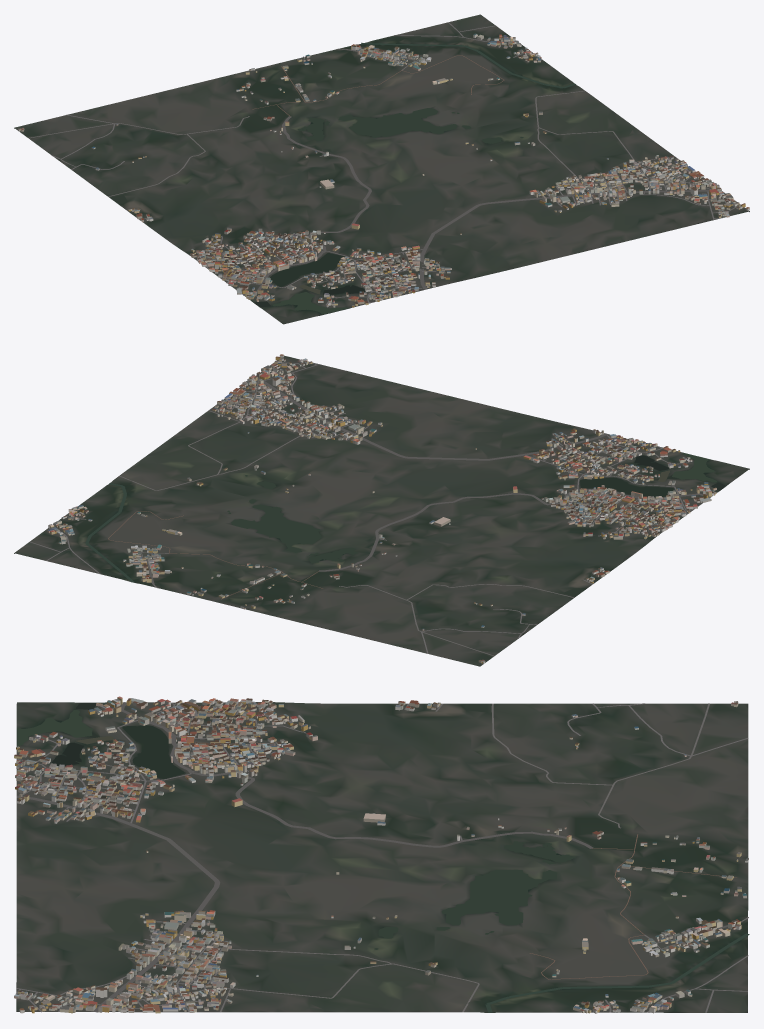
The picture shows the model from 3 angles, top to bottom: view 1: azimuth 30°, elevation 25°; view 2: azimuth 150°, elevation 25°; view 3: azimuth 270°, elevation 25°; orthographic projection. The views are drawn at different scales.
Parts seen in each view (by area): view 1: ground, buildings, water, roads; view 2: ground, buildings, roads, water; view 3: ground, buildings, water, roads.
Boxes of the visible parts, x1,y1,x2,y2 form: ground: [14, 14, 749, 324]; buildings: [17, 33, 749, 307]; water: [254, 42, 575, 314]; roads: [28, 22, 740, 305]; ground: [14, 355, 749, 666]; buildings: [47, 354, 716, 663]; roads: [29, 362, 710, 656]; water: [85, 452, 725, 582]; ground: [16, 702, 748, 1012]; buildings: [14, 696, 748, 1013]; water: [17, 702, 749, 1012]; roads: [16, 702, 748, 1012].
Size of the model in its own units: 1417 by 21.68 by 1410.
